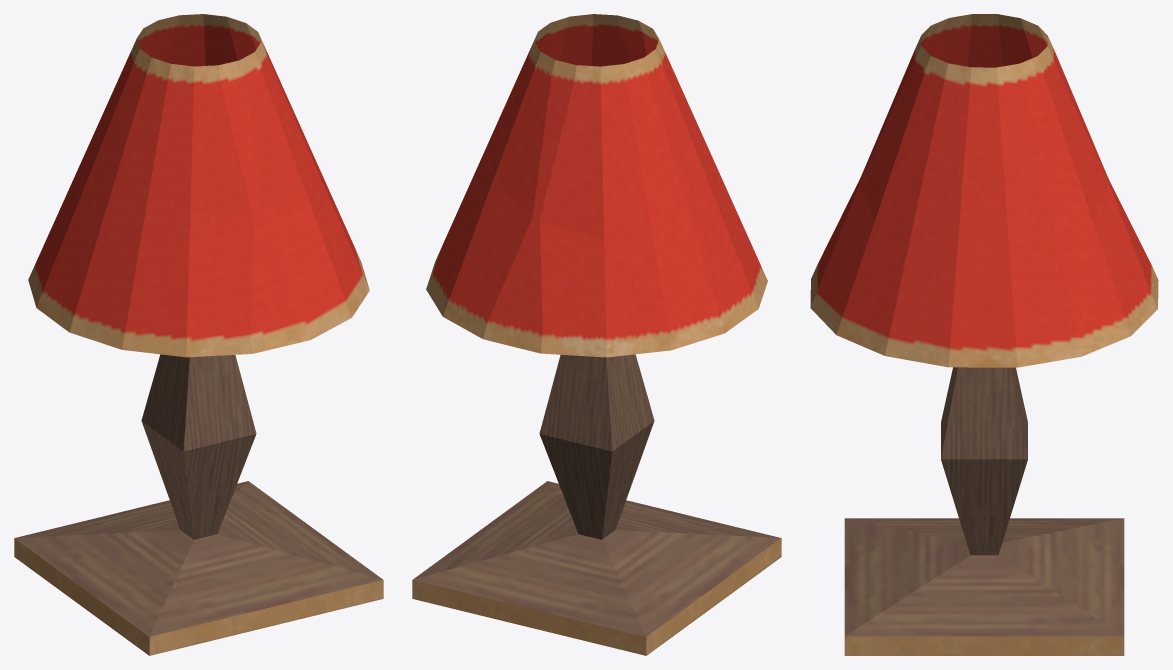
File: MKU_russia_lamp_fin.fbx
3 views of the same model, side by side, from view 1: azimuth 30°, elevation 25°; view 2: azimuth 150°, elevation 25°; view 3: azimuth 270°, elevation 25° (orthographic). The views are drawn at different scales.
Visible parts, largest first — view 1: lamp; view 2: lamp; view 3: lamp.
Part boxes in pixels (box(x1,y1,x2,y2)): lamp: box(14, 14, 383, 655); lamp: box(412, 14, 781, 655); lamp: box(810, 14, 1158, 655).
Size of the model in its own units: 249 by 439 by 249.
